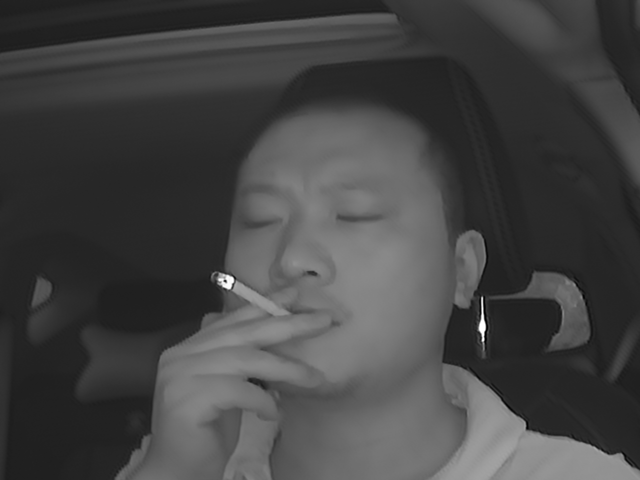hand: (180, 285, 340, 443)
